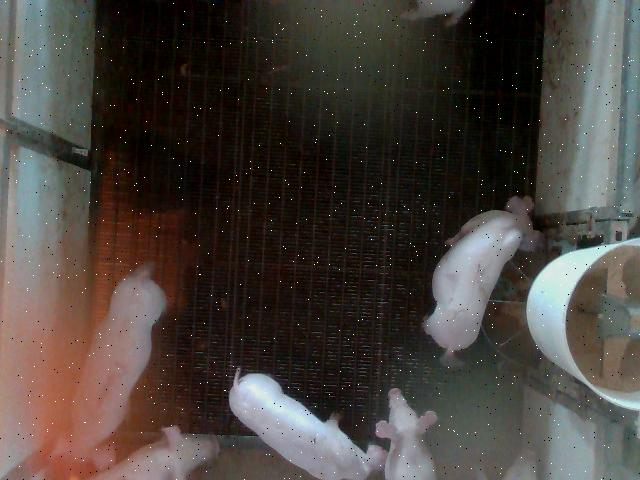pig-3: (54, 265, 166, 469)
